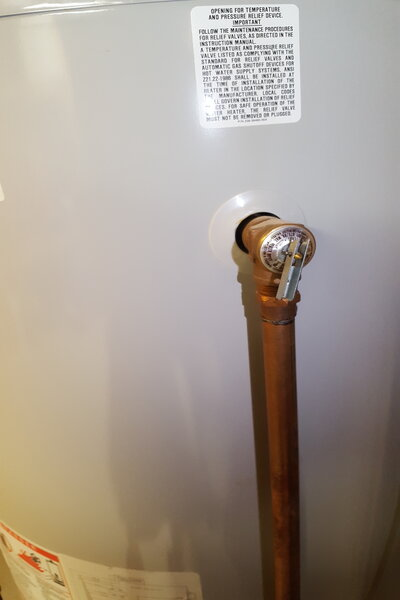valve: (235, 212, 318, 340)
